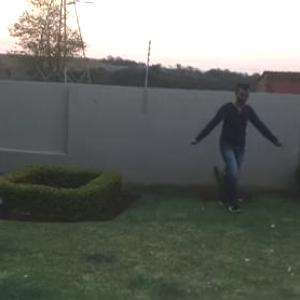land: (194, 97, 278, 215)
